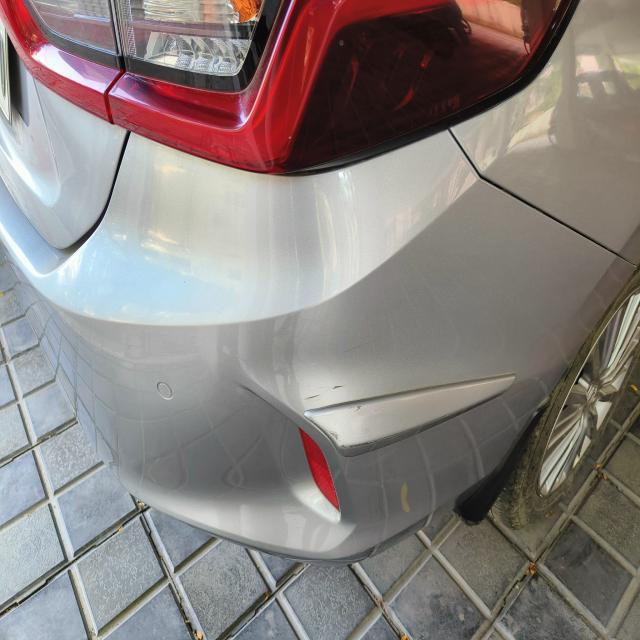scratch: (304, 384, 346, 401), (342, 337, 373, 355), (340, 438, 380, 450), (327, 427, 342, 442), (350, 406, 362, 411)
